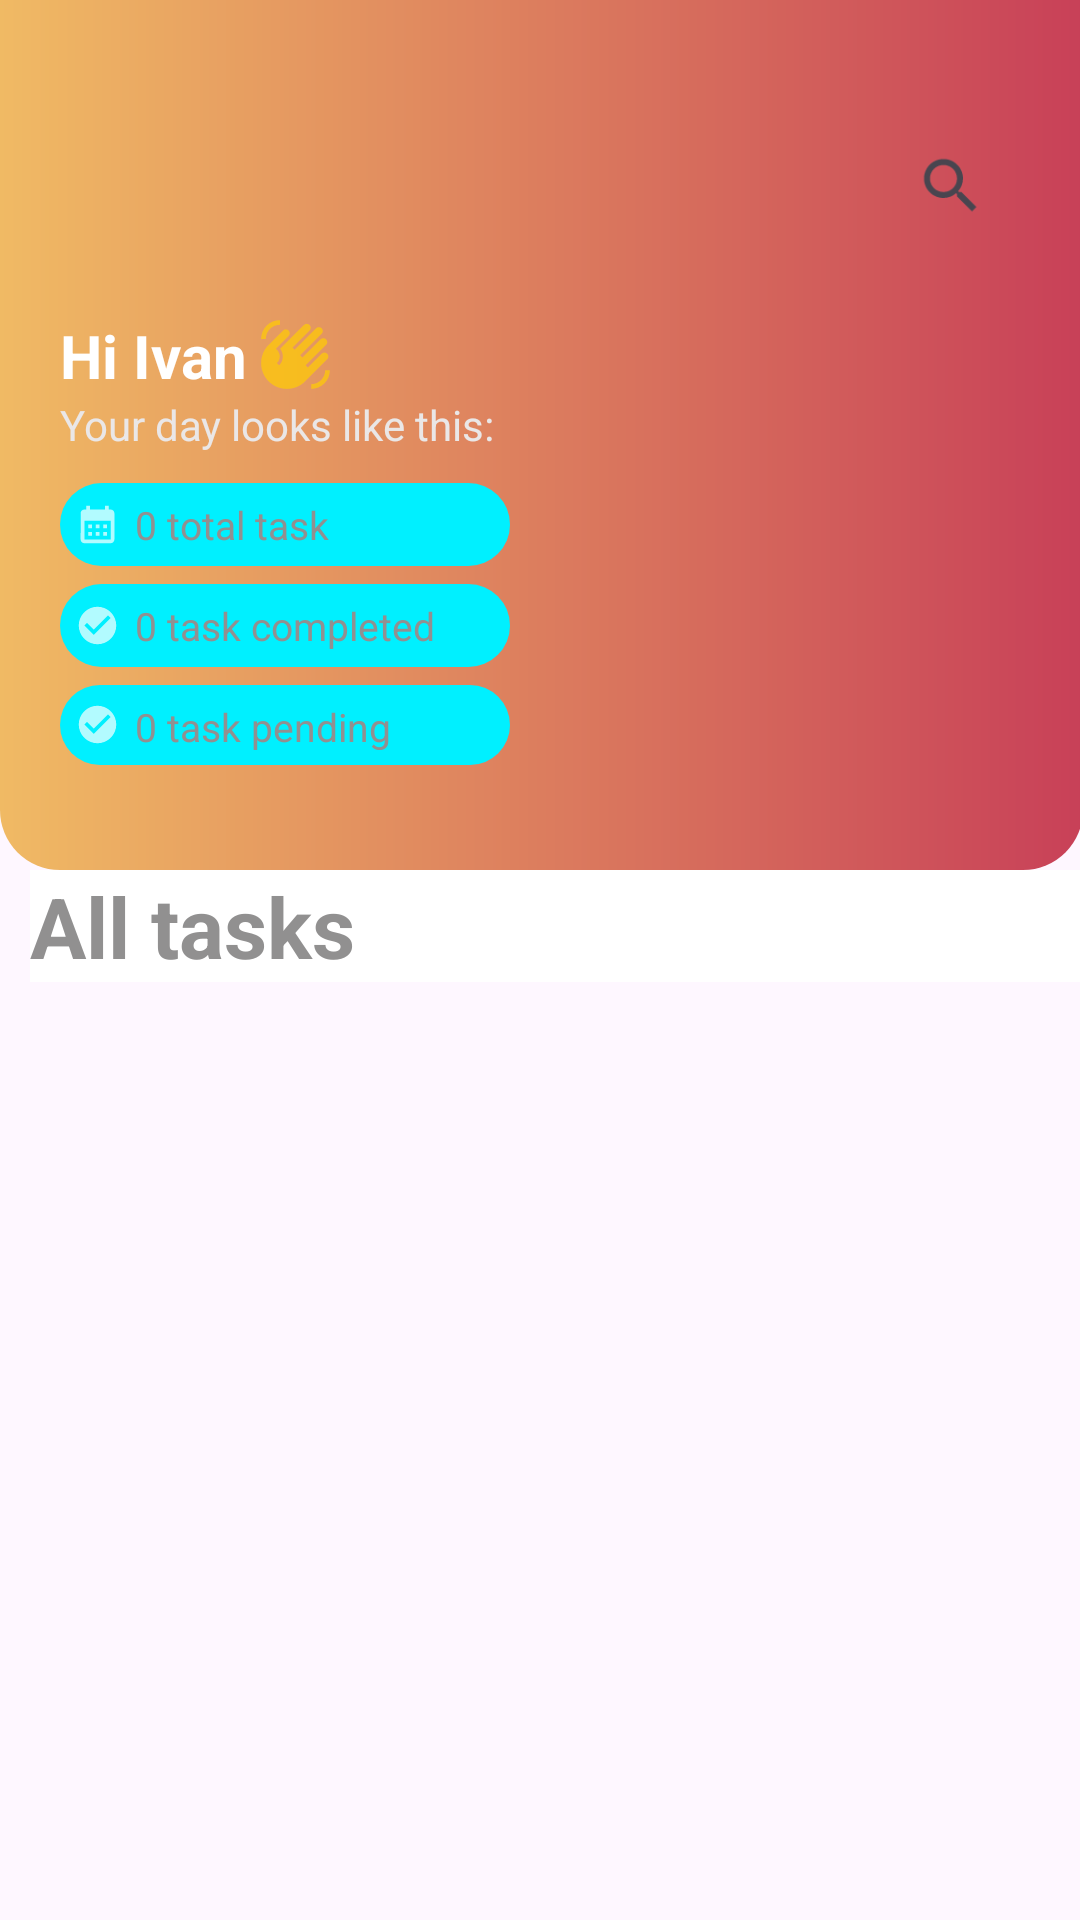

Screen size 1080 x 1920. Icon name, then its center in pixels as point (x, y):
waving hand: point (295, 354)
